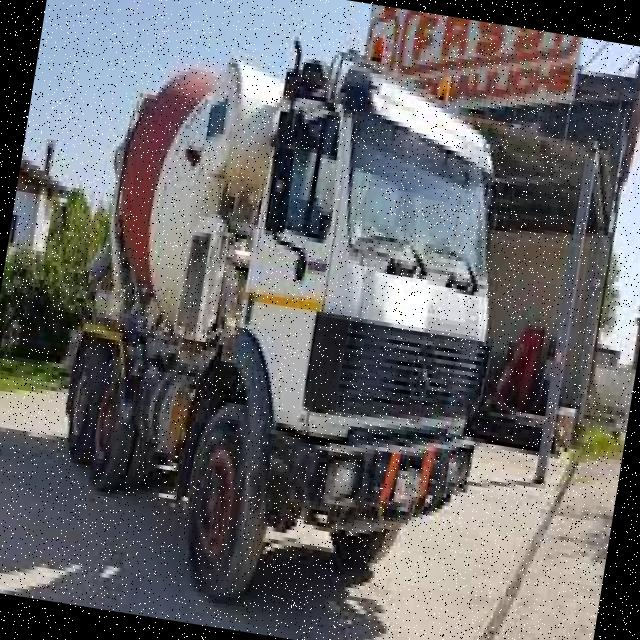Mixer Truck: (29, 9, 539, 640)
